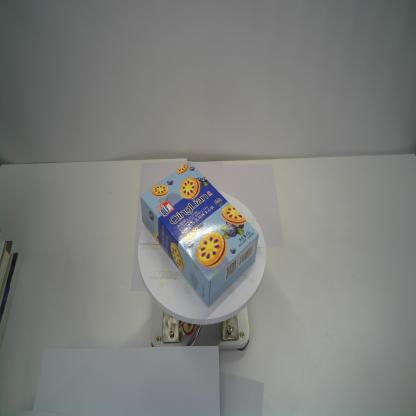Dessert: (139, 161, 260, 308)
